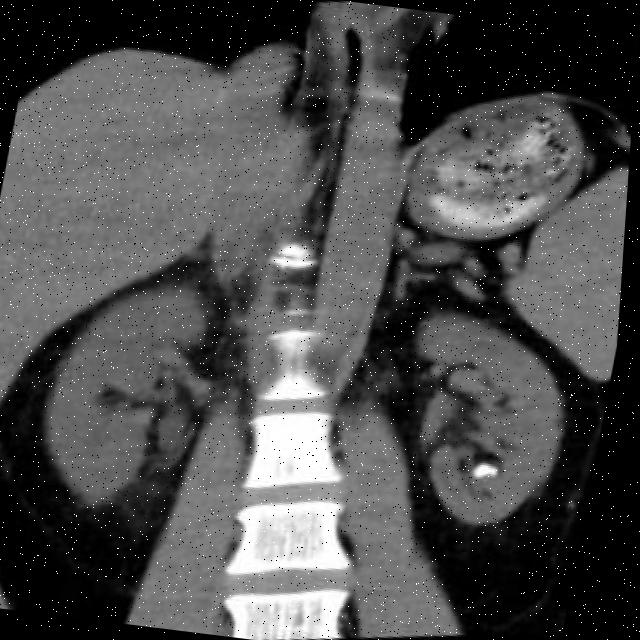Tas_Var: (477, 453, 511, 486)
